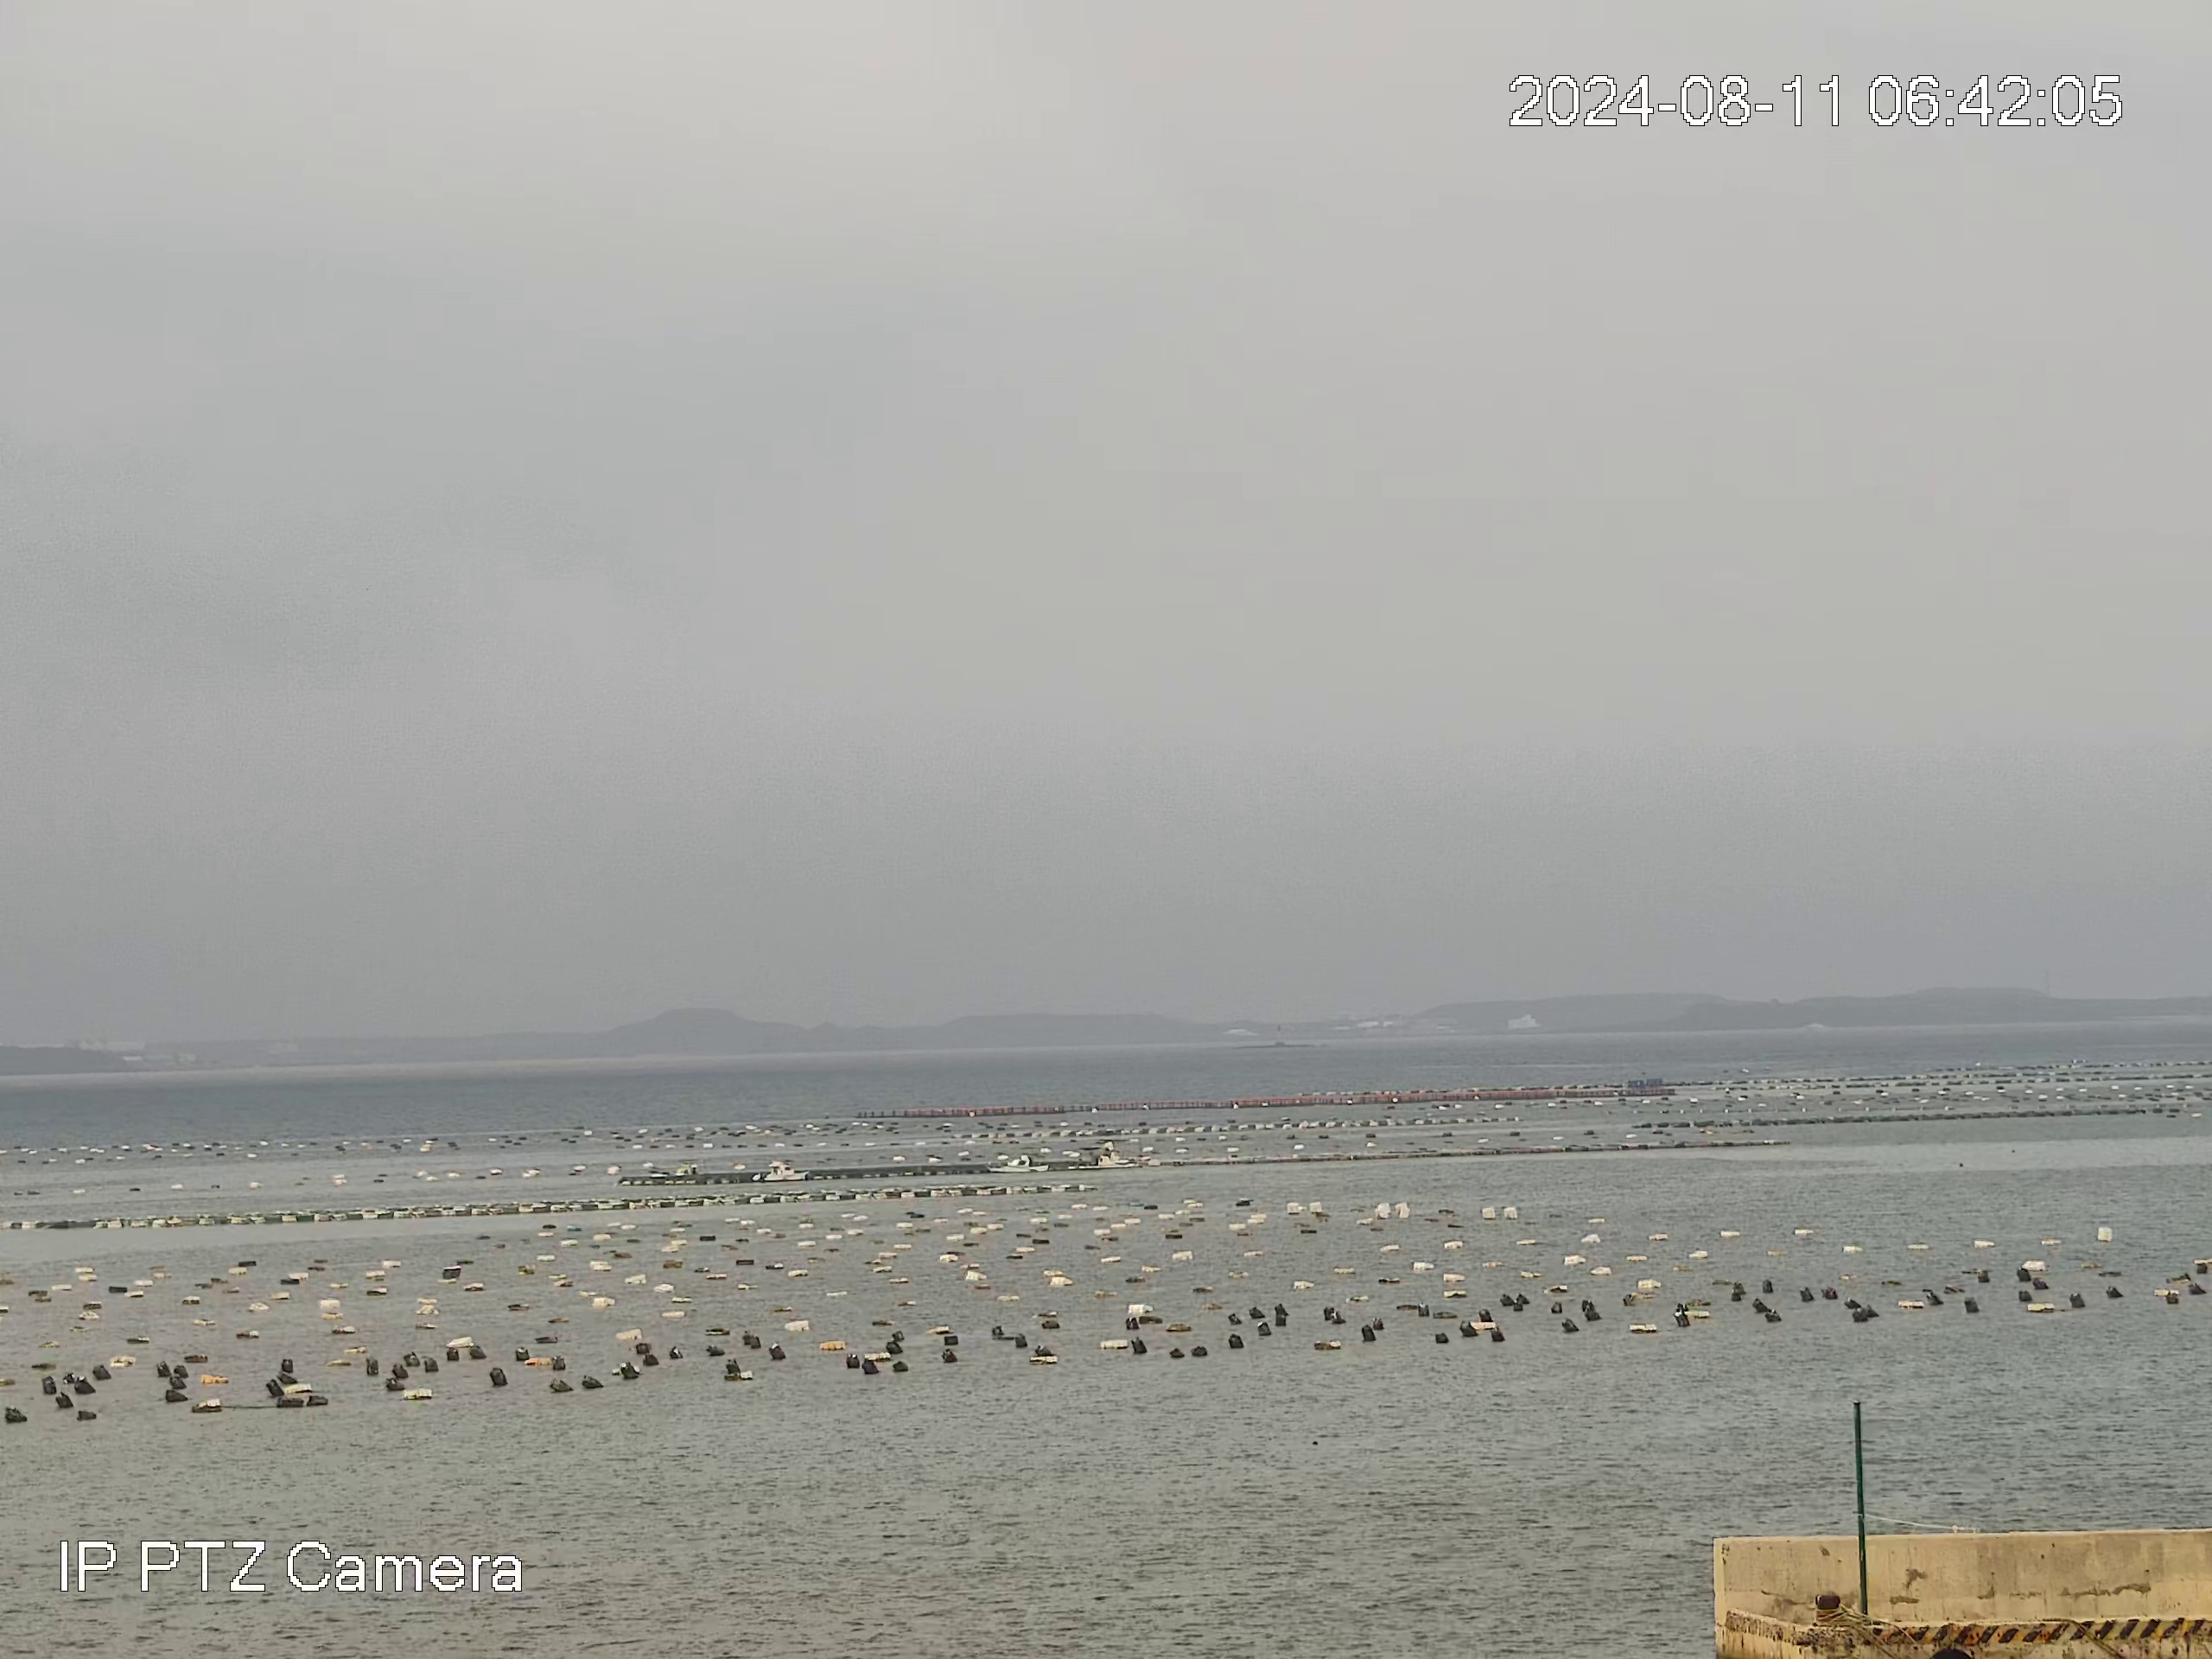boat: (986, 1154, 1050, 1175), (751, 1161, 810, 1183), (1066, 1150, 1122, 1169)
